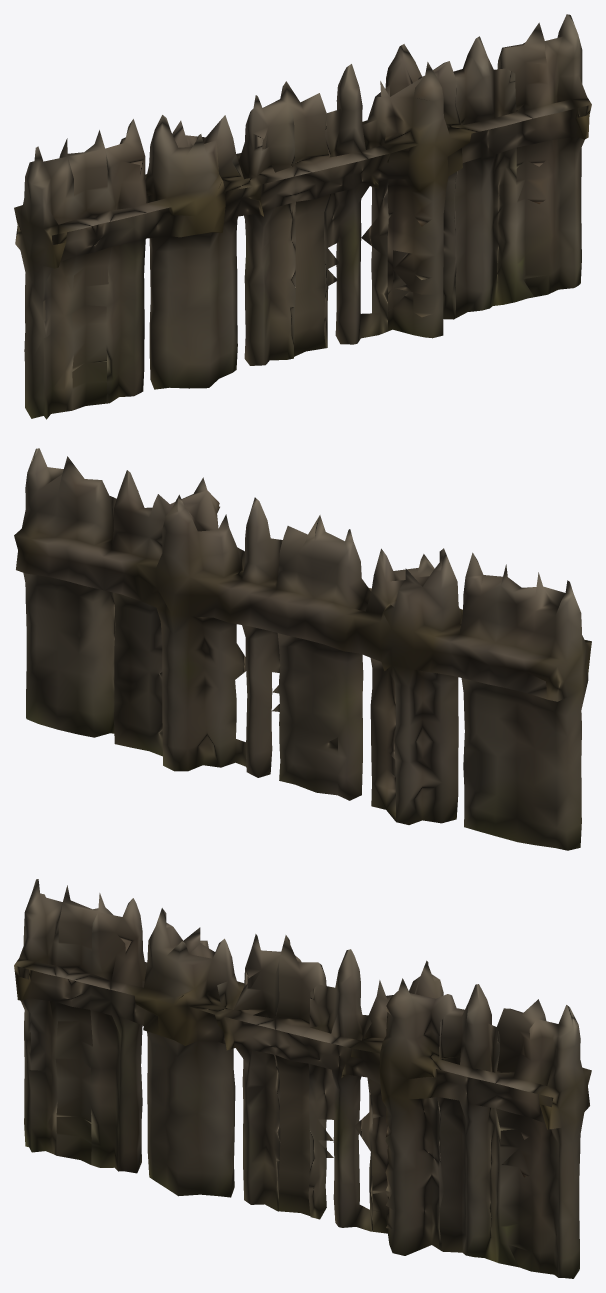
File: holzzaun.glb
The picture shows the model from 3 angles, top to bottom: view 1: azimuth 30°, elevation 25°; view 2: azimuth 150°, elevation 25°; view 3: azimuth 330°, elevation 25°; orthographic projection.
Size of the model in its own units: 1.85 by 0.8928 by 0.2564.
